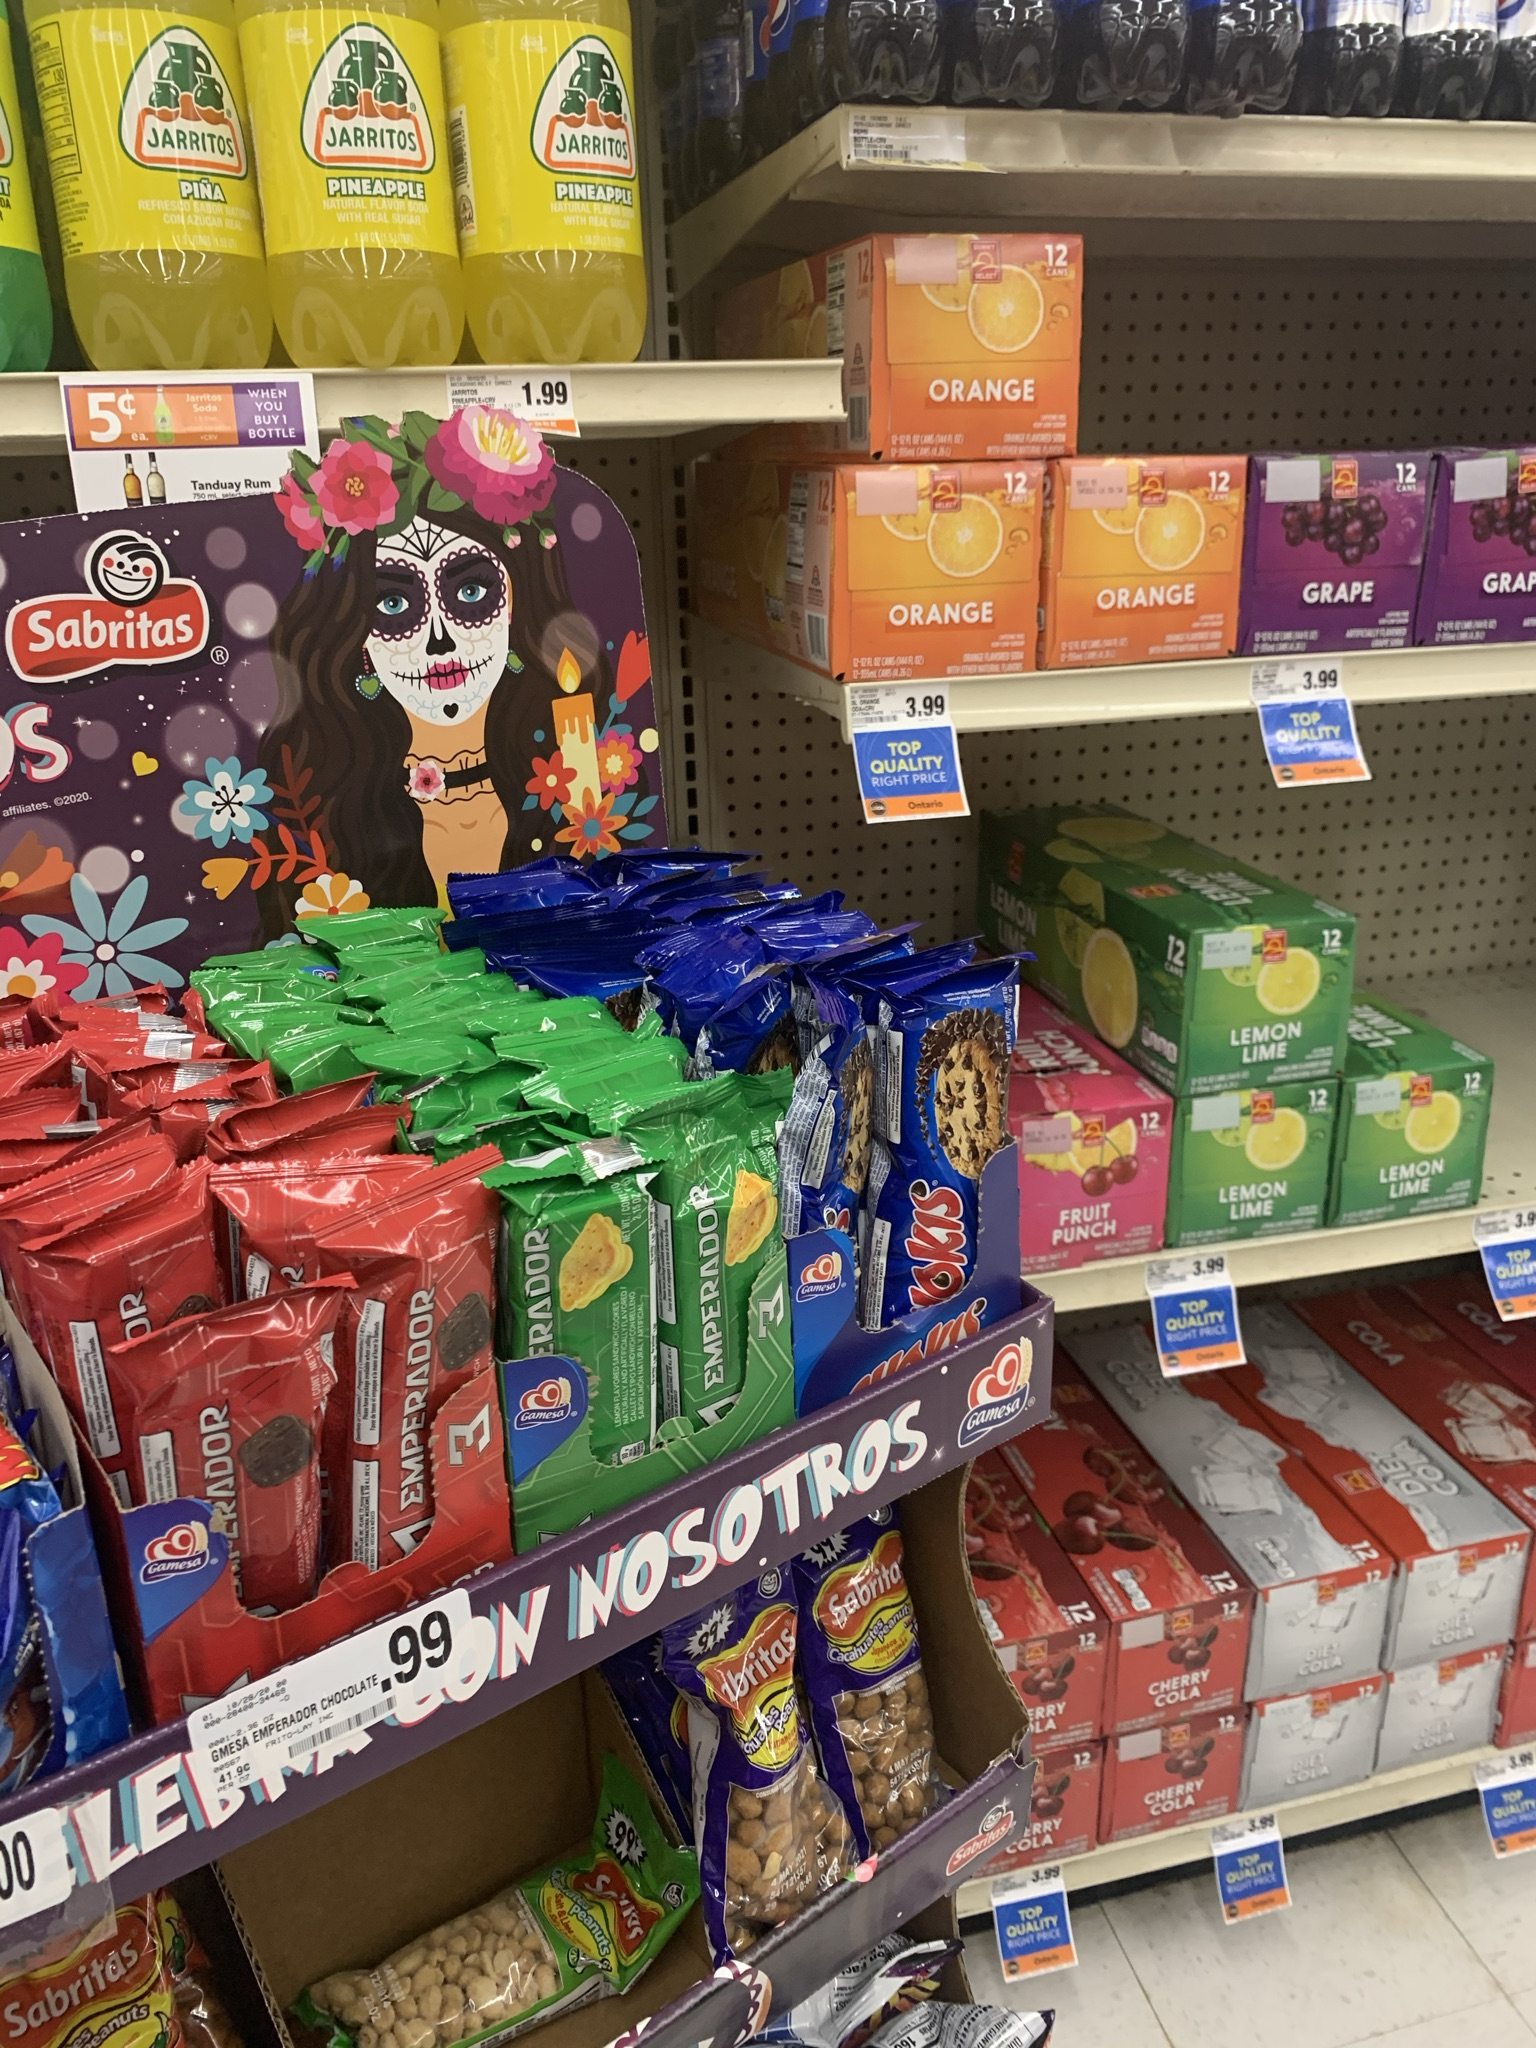box: (883, 235, 1066, 452), (841, 484, 1034, 666), (1065, 489, 1233, 643), (1263, 472, 1412, 642), (1194, 926, 1338, 1080), (1025, 1122, 1155, 1259), (1197, 1105, 1326, 1226), (1367, 1084, 1475, 1209), (1121, 1621, 1246, 1709), (1120, 1725, 1239, 1817), (1275, 1585, 1383, 1679), (1260, 1717, 1376, 1788), (1020, 1640, 1092, 1740), (1420, 1572, 1509, 1653)
